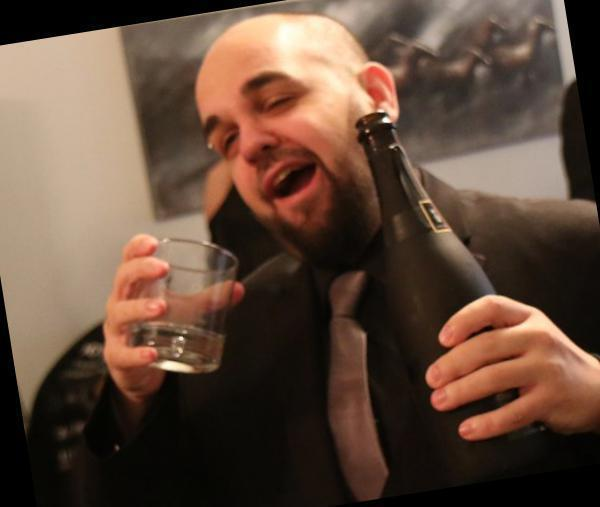Drunk: (196, 39, 363, 240)
